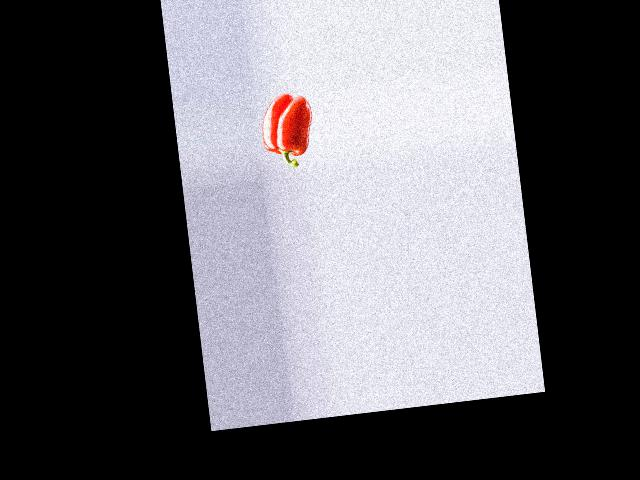bell_pepper: (256, 92, 318, 171)
